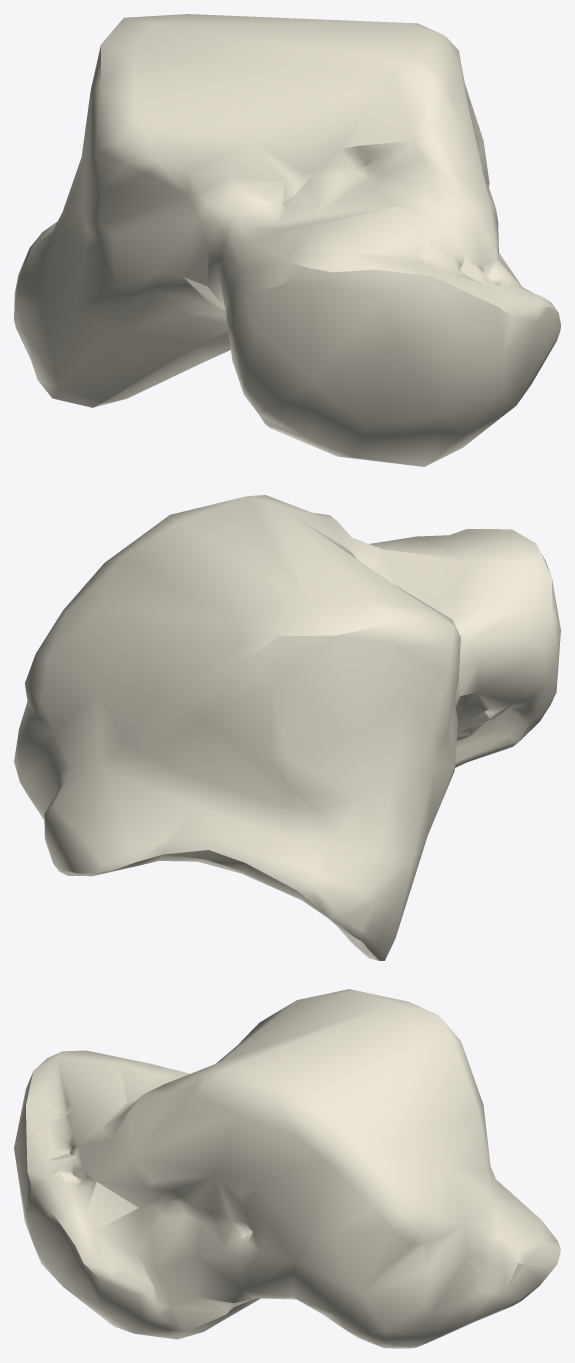
Rendered from fma24482_fj6477.glb.
3 renders of one model, top to bottom at view 1: azimuth 30°, elevation 25°; view 2: azimuth 150°, elevation 25°; view 3: azimuth 270°, elevation 25°, orthographic. The views are drawn at different scales.
Parts seen in each view (by area): view 1: FMA24482_FJ6477; view 2: FMA24482_FJ6477; view 3: FMA24482_FJ6477.
Boxes of the visible parts, <box> form: FMA24482_FJ6477: <box>14,14,560,466</box>; FMA24482_FJ6477: <box>14,495,560,960</box>; FMA24482_FJ6477: <box>14,989,560,1348</box>.
Size of the model in its own units: 0.0402 by 0.0339 by 0.0568.
